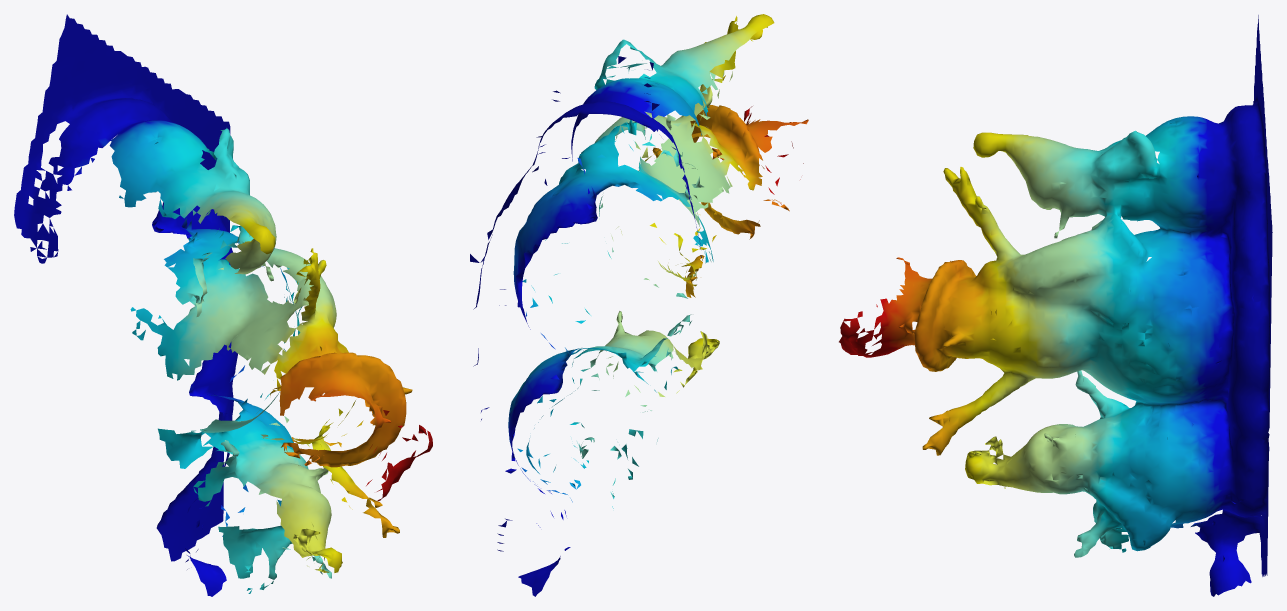
3 renders of one model, left to right at view 1: azimuth 30°, elevation 25°; view 2: azimuth 150°, elevation 25°; view 3: azimuth 270°, elevation 25°, orthographic. The views are drawn at different scales.
Visible parts, largest first — view 1: gs_mesh_fixed.obj; view 2: gs_mesh_fixed.obj; view 3: gs_mesh_fixed.obj.
Boxes of the visible parts, x1=… form: gs_mesh_fixed.obj: x1=14, y1=14, x2=432, y2=596; gs_mesh_fixed.obj: x1=470, y1=14, x2=808, y2=596; gs_mesh_fixed.obj: x1=839, y1=15, x2=1272, y2=596.
Bounding box in the file's own units: 0.5976 × 1.48 × 1.1.
